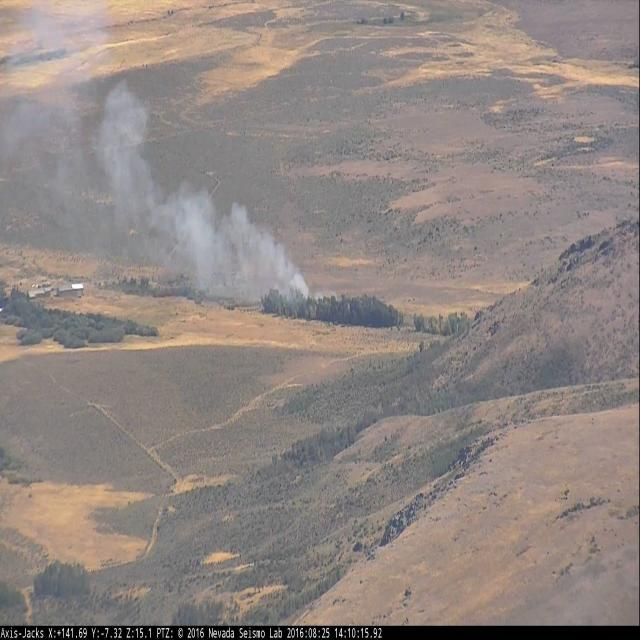smoke: (103, 85, 313, 304)
